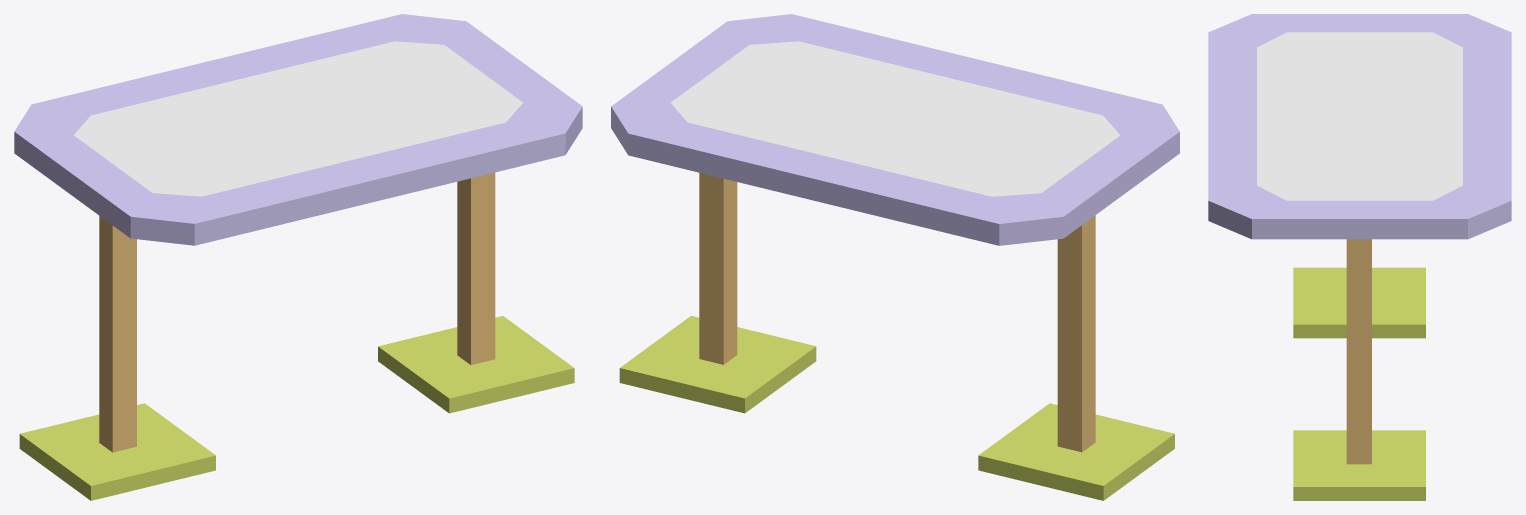
Rendered from Table_Level_02.fbx.
3 renders of one model, left to right at view 1: azimuth 30°, elevation 25°; view 2: azimuth 150°, elevation 25°; view 3: azimuth 270°, elevation 25°, orthographic. The views are drawn at different scales.
Parts seen in each view (by area): view 1: Table_Level_02; view 2: Table_Level_02; view 3: Table_Level_02.
Part boxes in pixels (<box>): Table_Level_02: <box>14,14,582,500</box>; Table_Level_02: <box>611,14,1179,500</box>; Table_Level_02: <box>1208,14,1511,500</box>.
Size of the model in its own units: 376 by 220 by 220.
